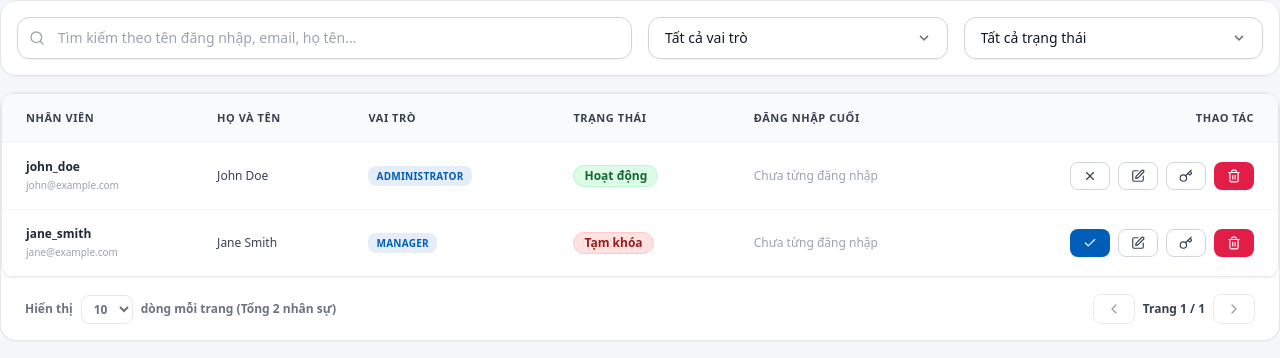
Scenario: renders StaffTable and filters by search text
expect the text "john_doe" is shown: met, box [26, 158, 80, 175]
expect the text "jane_smith" is shown: met, box [26, 225, 91, 242]
# Search for John
Step 1. Type "john" into the field with placeholder "Tìm kiếm theo tên đăng nhập, email, họ tên..." → (324, 38), box [17, 17, 632, 59]
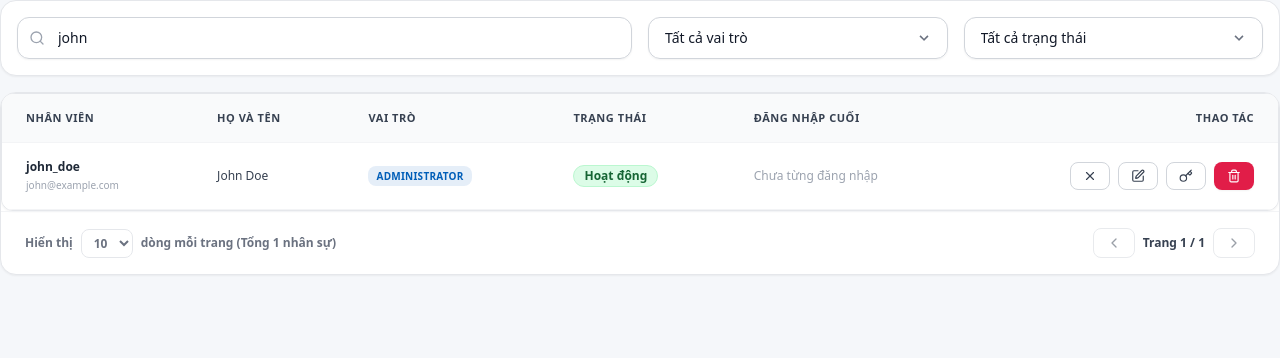
expect the text "john_doe" is shown: met, box [26, 158, 80, 175]
expect the text "jane_smith" is gone: met
